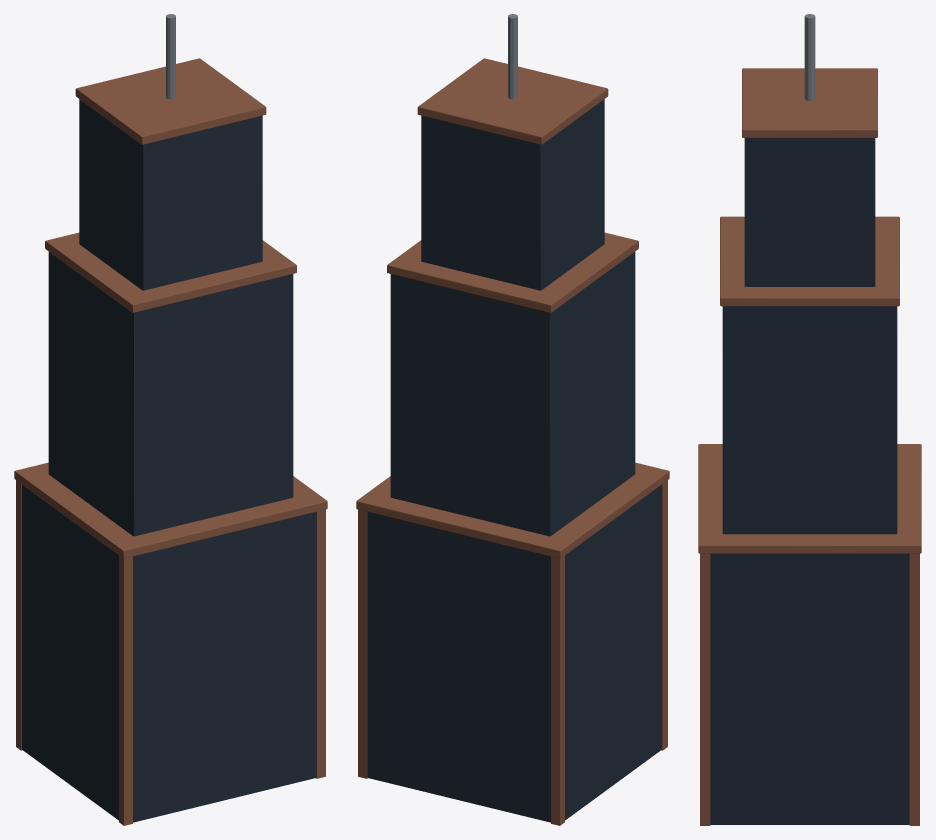
The model's file is tower.glb.
3 views of the same model, side by side, from view 1: azimuth 30°, elevation 25°; view 2: azimuth 150°, elevation 25°; view 3: azimuth 270°, elevation 25° (orthographic).
Visible parts, largest first — view 1: base, mid, top, ledge-170, ledge-70, ledge-130, pier--1--1, pier-1--1, pier--1-1, spire; view 2: base, mid, top, ledge-170, ledge-70, ledge-130, pier--1-1, pier-1-1, pier--1--1, spire; view 3: base, mid, top, ledge-170, ledge-70, ledge-130, pier-1-1, pier-1--1, spire.
Boxes of the visible parts, x1,y1,x2,y2 form: base: (22,485,316,822); mid: (48,252,293,536); top: (79,99,262,290); ledge-170: (75,58,266,144); ledge-70: (14,462,327,558); ledge-130: (45,232,296,312); pier--1--1: (119,556,132,825); pier-1--1: (316,509,325,778); pier--1-1: (16,480,22,750); spire: (166,14,175,99); base: (367,485,661,822); mid: (390,252,635,536); top: (421,99,604,290); ledge-170: (417,58,608,144); ledge-70: (356,462,669,558); ledge-130: (387,232,638,312); pier--1-1: (551,556,564,825); pier-1-1: (358,509,367,778); pier--1--1: (661,480,667,750); spire: (508,14,517,99); base: (710,553,909,824); mid: (722,306,897,534); top: (744,138,875,286); ledge-170: (742,68,877,137); ledge-70: (698,444,921,553); ledge-130: (720,216,899,306); pier-1-1: (909,553,919,825); pier-1--1: (700,553,710,825); spire: (804,14,815,100).
Size of the model in its own units: 55.2 by 192 by 51.2.
